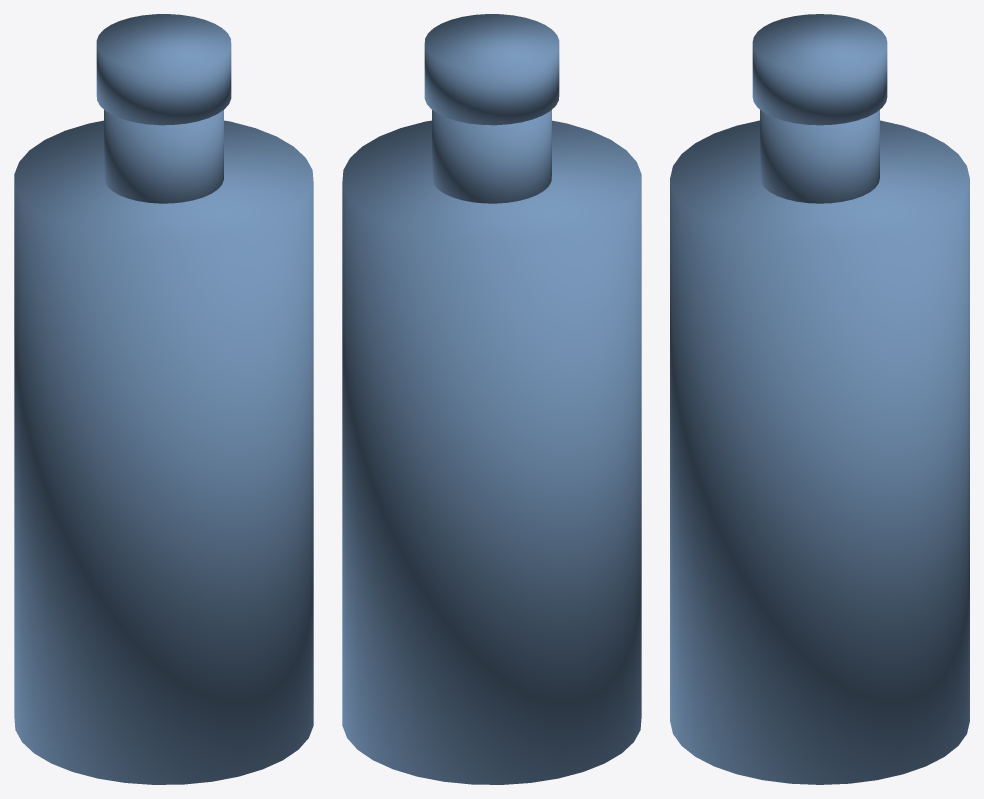
Rendered from bottle.glb.
The picture shows the model from 3 angles, left to right: view 1: azimuth 30°, elevation 25°; view 2: azimuth 150°, elevation 25°; view 3: azimuth 270°, elevation 25°; orthographic projection.
Visible parts, largest first — view 1: Bottle_Body; view 2: Bottle_Body; view 3: Bottle_Body.
Part boxes in pixels (left/top/right/bottom): Bottle_Body: left=14, top=14, right=313, bottom=784; Bottle_Body: left=342, top=14, right=641, bottom=784; Bottle_Body: left=670, top=14, right=969, bottom=784.
Bounding box in the file's own units: 2 × 5 × 2.
